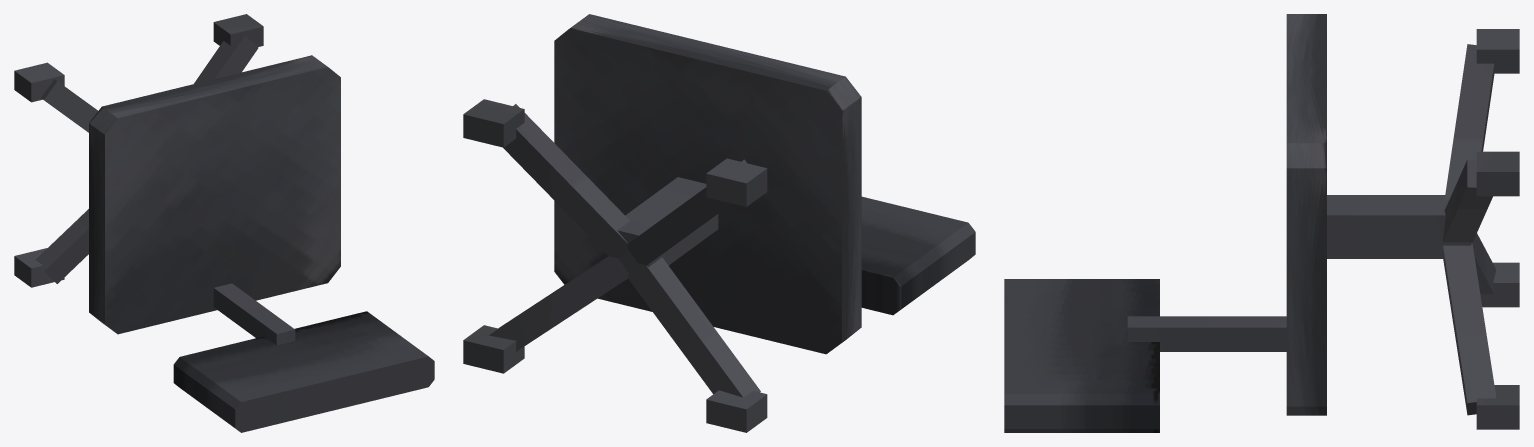
File: pz_chair_seating_indoor_01_black_office.obj
The picture shows the model from 3 angles, left to right: view 1: azimuth 30°, elevation 25°; view 2: azimuth 150°, elevation 25°; view 3: azimuth 270°, elevation 25°; orthographic projection. The views are drawn at different scales.
Visible parts, largest first — view 1: root; view 2: root; view 3: root.
Part boxes in pixels (x1,y1,x2,y2): root: (14, 14, 434, 432); root: (463, 14, 975, 432); root: (1004, 14, 1519, 432).
Bounding box in the file's own units: 0.64 × 0.61 × 0.96.
Materials: 1 (1 with a texture image).
